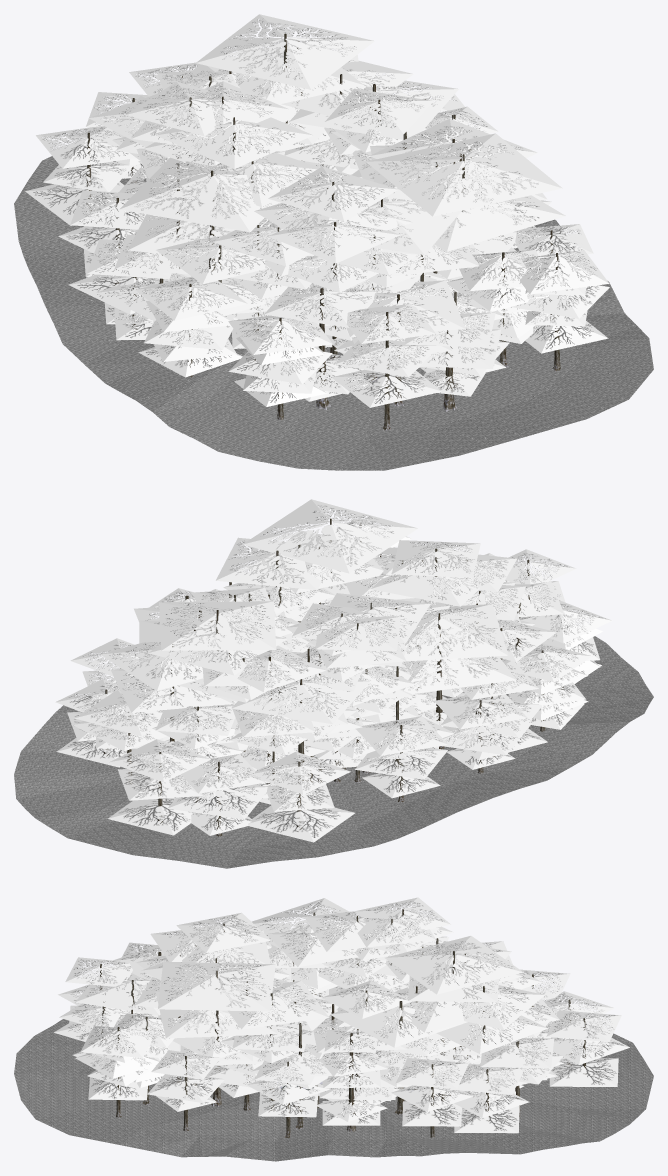
File: tutorial - Copy.dae
3 renders of one model, top to bottom at view 1: azimuth 30°, elevation 25°; view 2: azimuth 150°, elevation 25°; view 3: azimuth 270°, elevation 25°, orthographic. The views are drawn at different scales.
Parts seen in each view (by area): view 1: m0, m31, m30, m1; view 2: m0, m31, m30, m1; view 3: m0, m31, m30, m1.
Part boxes in pixels (bbox=[...]): m0: bbox=[25, 14, 609, 407]; m31: bbox=[14, 133, 653, 470]; m30: bbox=[74, 164, 577, 434]; m1: bbox=[86, 33, 560, 430]; m0: bbox=[55, 499, 612, 842]; m31: bbox=[14, 602, 653, 868]; m30: bbox=[82, 648, 570, 849]; m1: bbox=[103, 518, 563, 836]; m0: bbox=[54, 897, 629, 1133]; m31: bbox=[14, 1005, 653, 1161]; m30: bbox=[80, 1026, 595, 1141]; m1: bbox=[99, 909, 586, 1137].
Bounding box in the file's own units: 15422 × 5778 × 22147.
